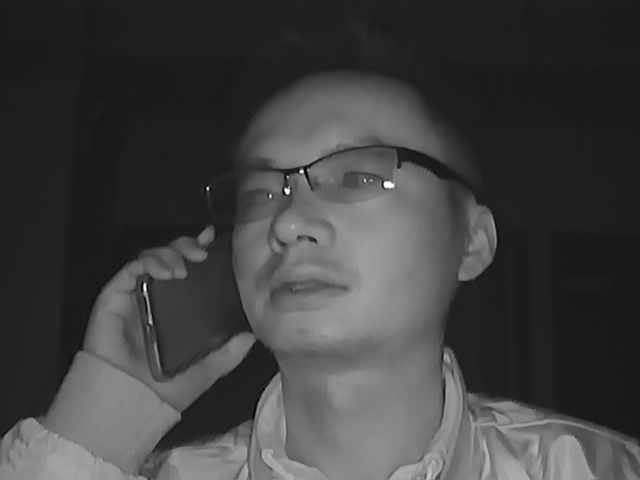hand: (102, 224, 228, 395)
